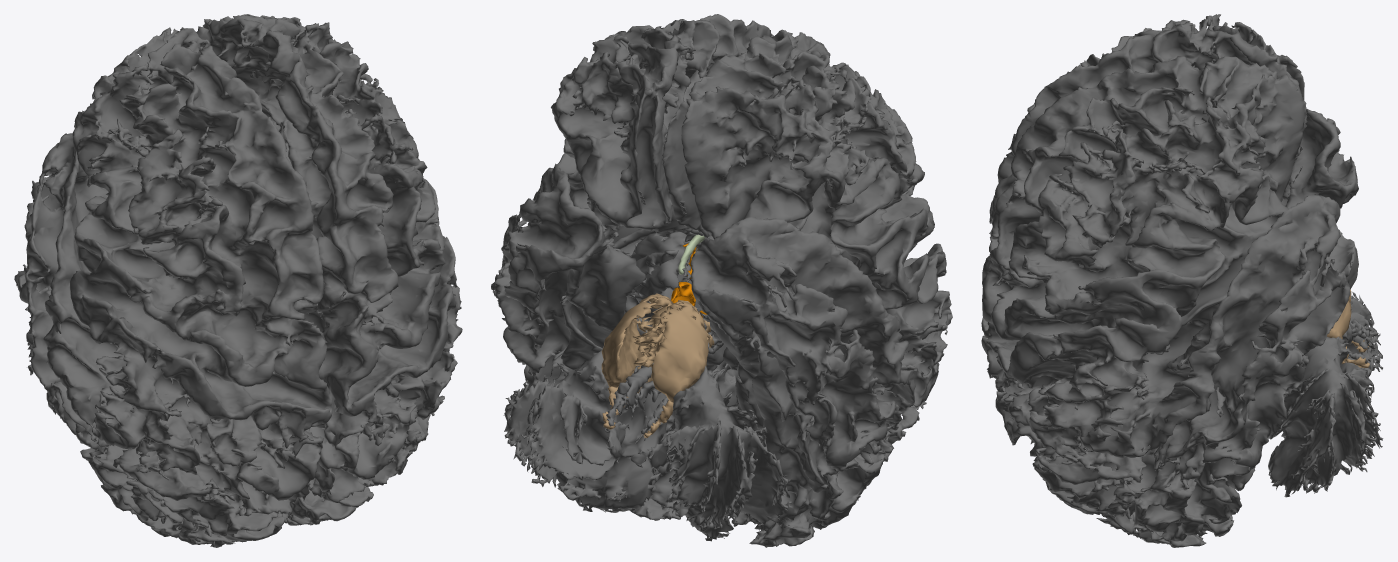
Rendered from tracts-nextbrain.glb.
3 views of the same model, side by side, from view 1: azimuth 30°, elevation 25°; view 2: azimuth 150°, elevation 25°; view 3: azimuth 270°, elevation 25° (orthographic). The views are drawn at different scales.
Visible parts, largest first — view 1: tracts-nextbrain; view 2: tracts-nextbrain; view 3: tracts-nextbrain.
Boxes of the visible parts, <box> form: tracts-nextbrain: <box>14,14,462,547</box>; tracts-nextbrain: <box>491,14,952,547</box>; tracts-nextbrain: <box>981,14,1383,547</box>.
Size of the model in its own units: 153 by 195 by 148.
